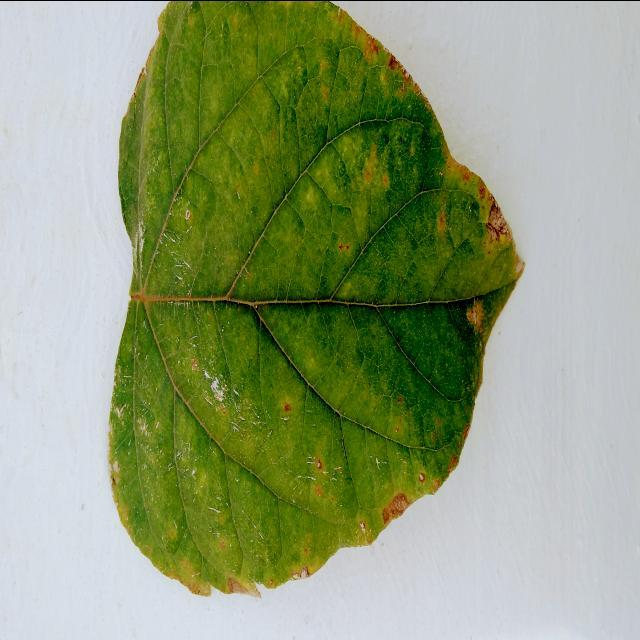leaf: (107, 0, 525, 597)
